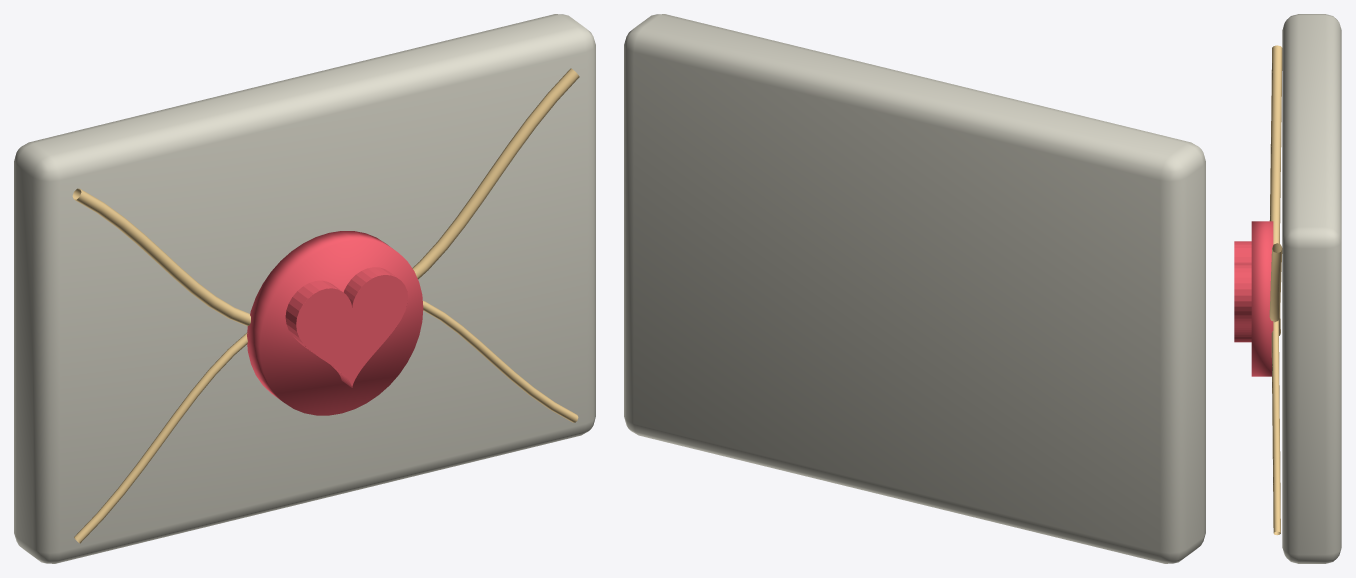
Rendered from sealed_envelope.glb.
3 views of the same model, side by side, from view 1: azimuth 30°, elevation 25°; view 2: azimuth 150°, elevation 25°; view 3: azimuth 270°, elevation 25° (orthographic). The views are drawn at different scales.
Parts seen in each view (by area): view 1: sealed_envelope; view 2: sealed_envelope; view 3: sealed_envelope.
Boxes of the visible parts, left/top/right/bottom form: sealed_envelope: left=14, top=14, right=595, bottom=563; sealed_envelope: left=624, top=14, right=1205, bottom=563; sealed_envelope: left=1234, top=14, right=1341, bottom=563.
Size of the model in its own units: 0.72 by 0.5 by 0.145.
